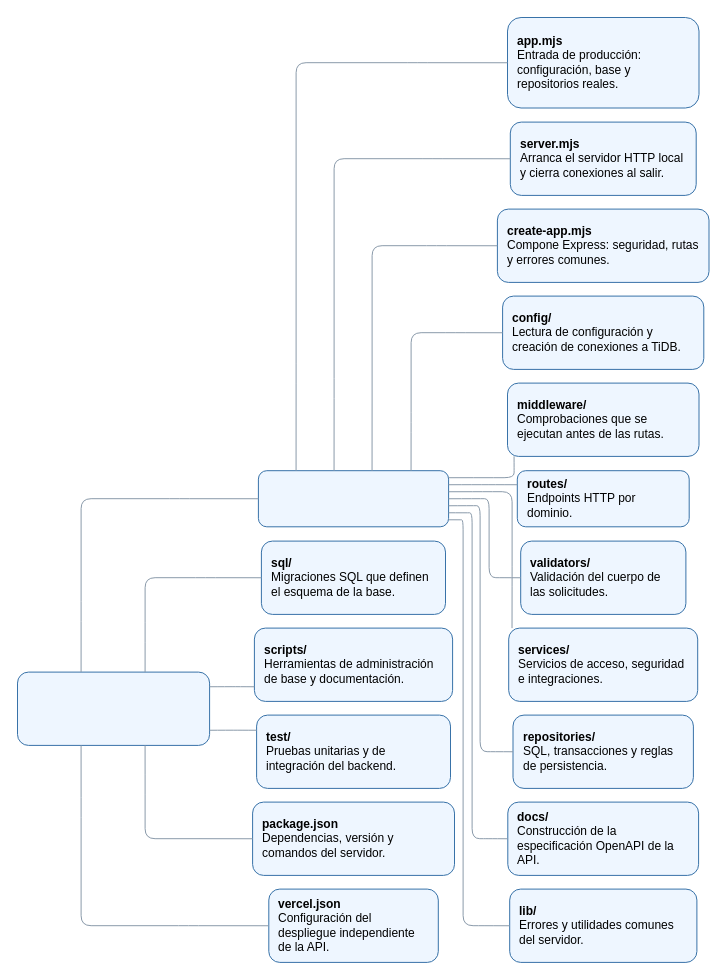
Image size: 727x980. Some labels were removed from this diagram. Here are the shapes that lost their labels. From the top down, the centre of each, then its label:
At (353,498): "src/ Código de ejecución del servidor.".
At (113,708): "backend/ API que aplica permisos y guarda los datos compartidos.".
